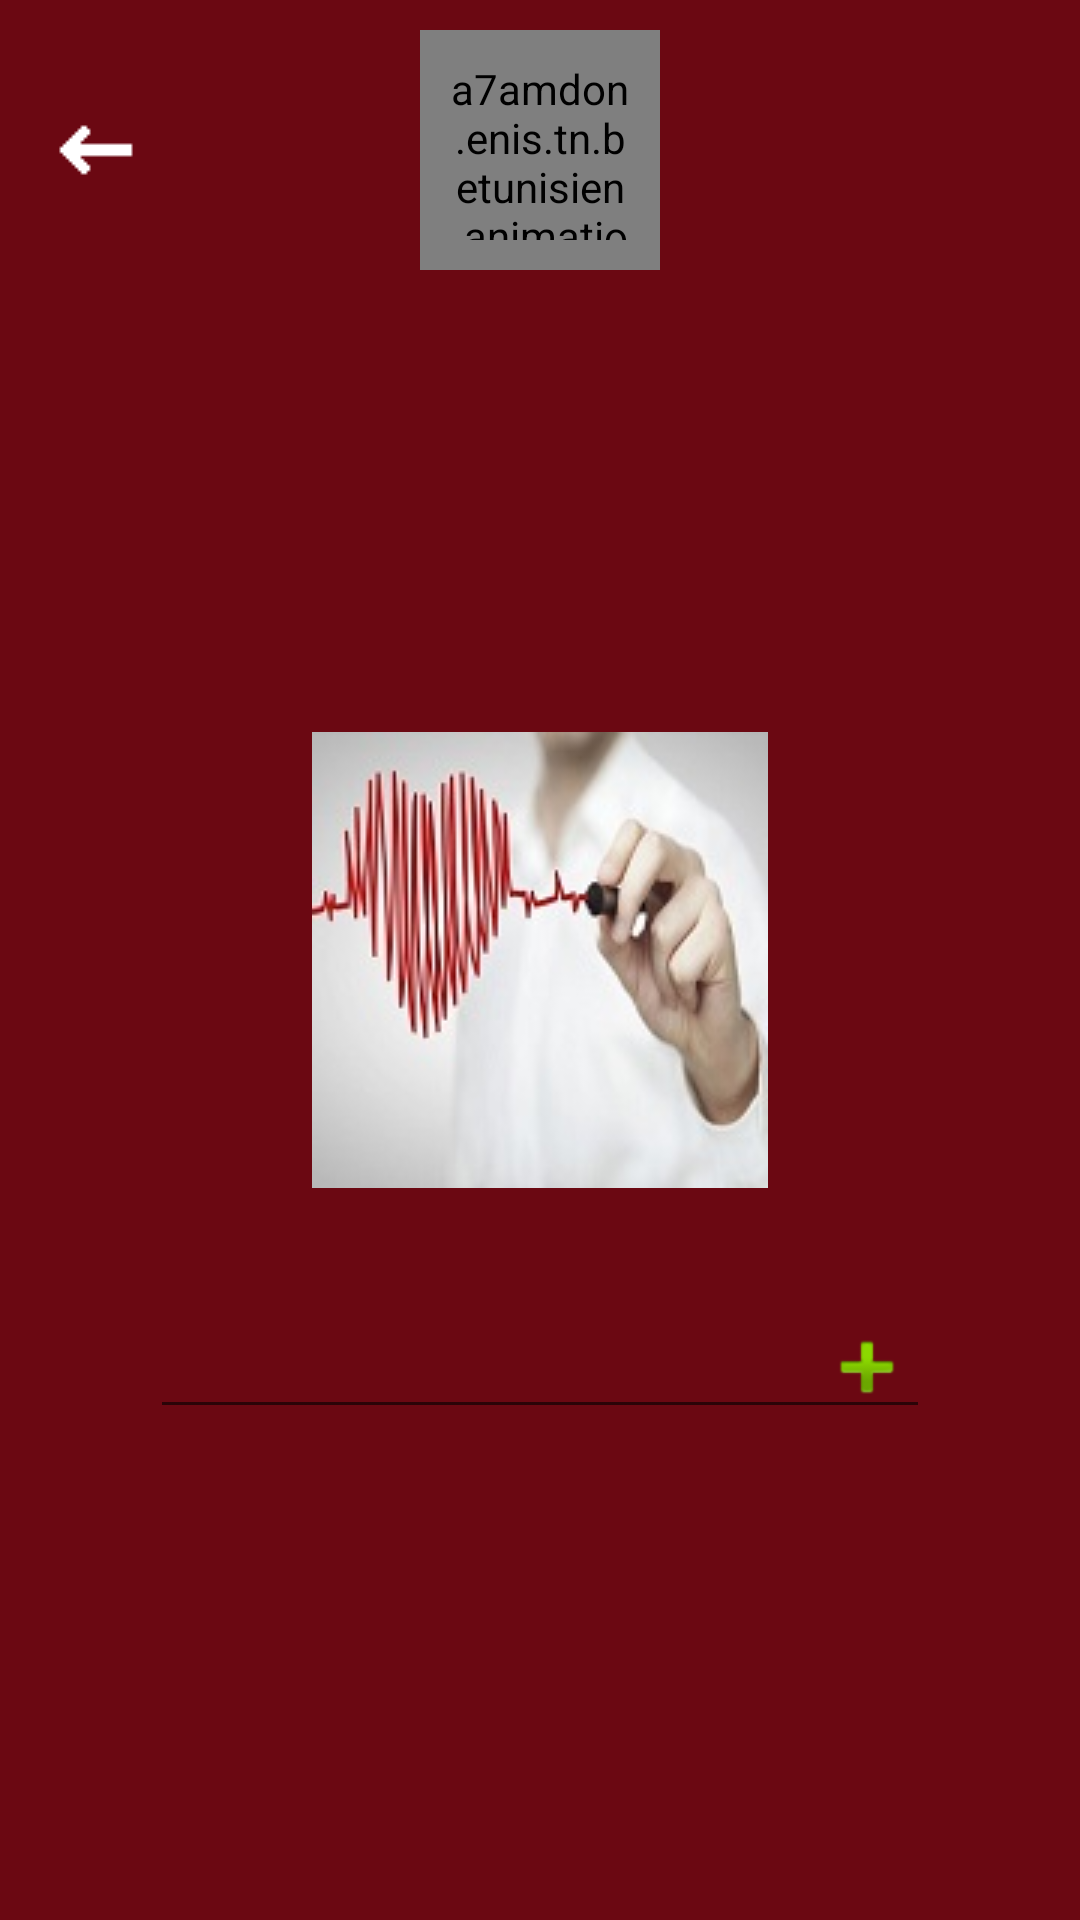

Icons on this 1080 x 1920 Android screen, each with the point to tap as (x=x, y=y):
add: (x=867, y=1367)
icback: (x=96, y=150)
